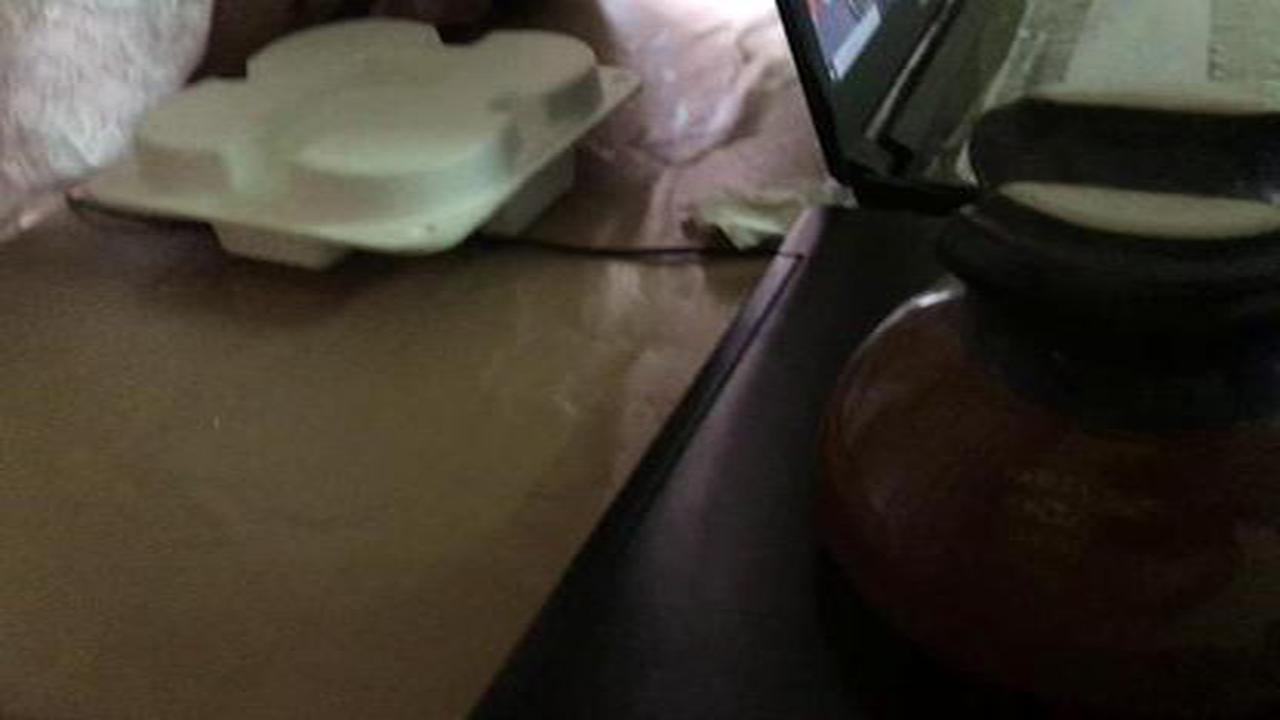insulator_pin: (804, 77, 1274, 676)
